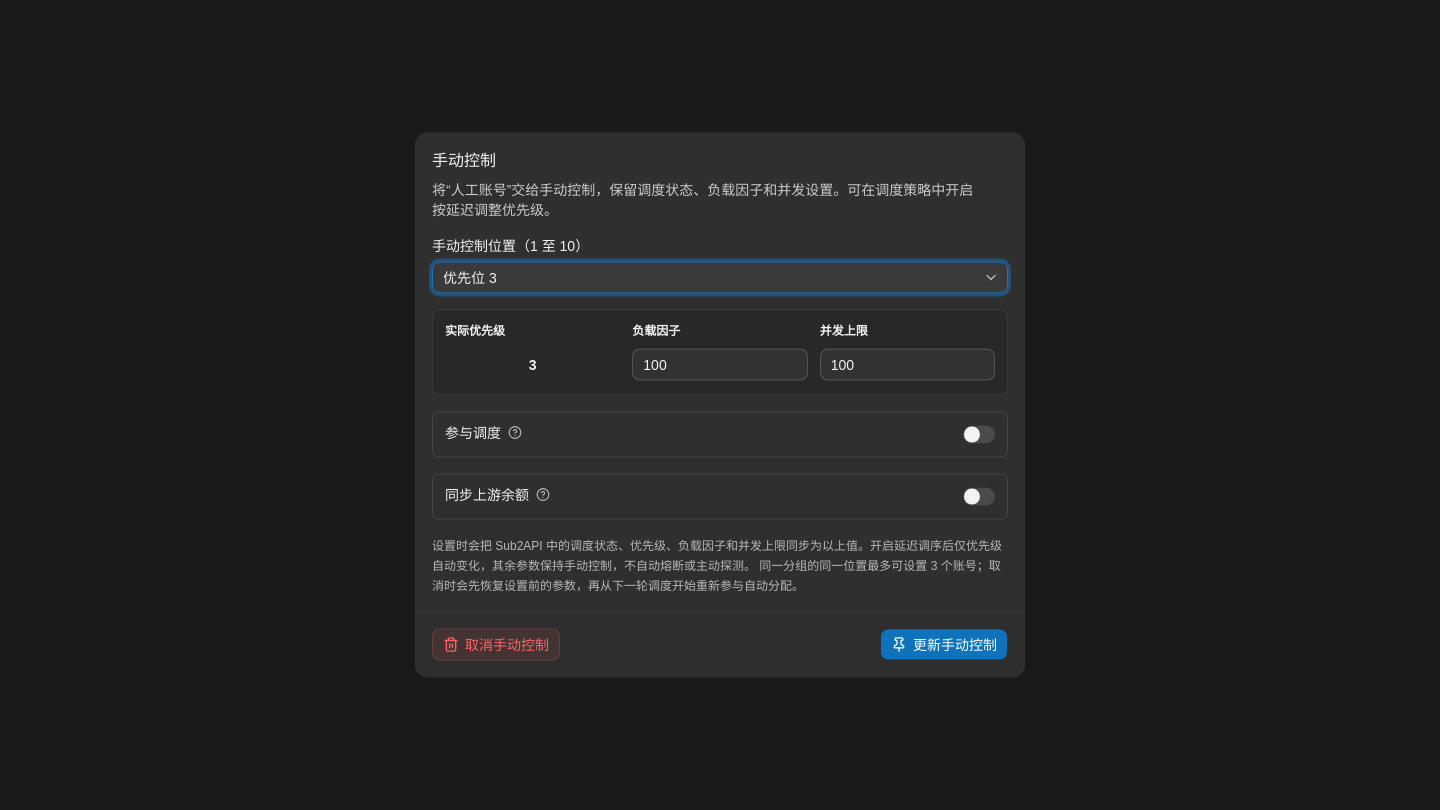
手动控制调度控制 › 当前账号与 0 个同组账号共用位置时，标记当前占用并显示包含自身的人数
Click the dropdown named "选择手动控制位置": (470, 278) [432,262,1008,294]
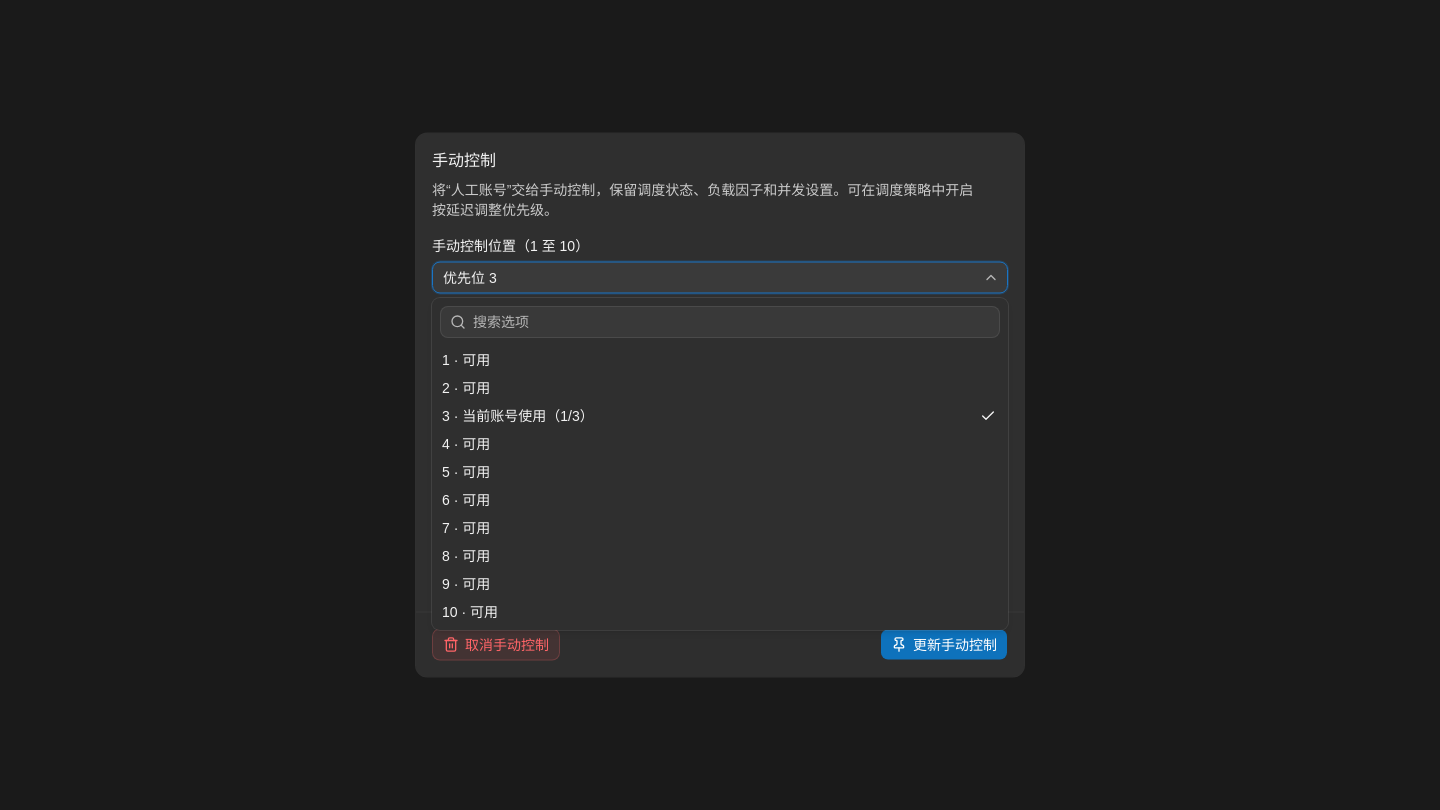
Now the option "4 · 可用" is shown, box [442,436,490,452]
